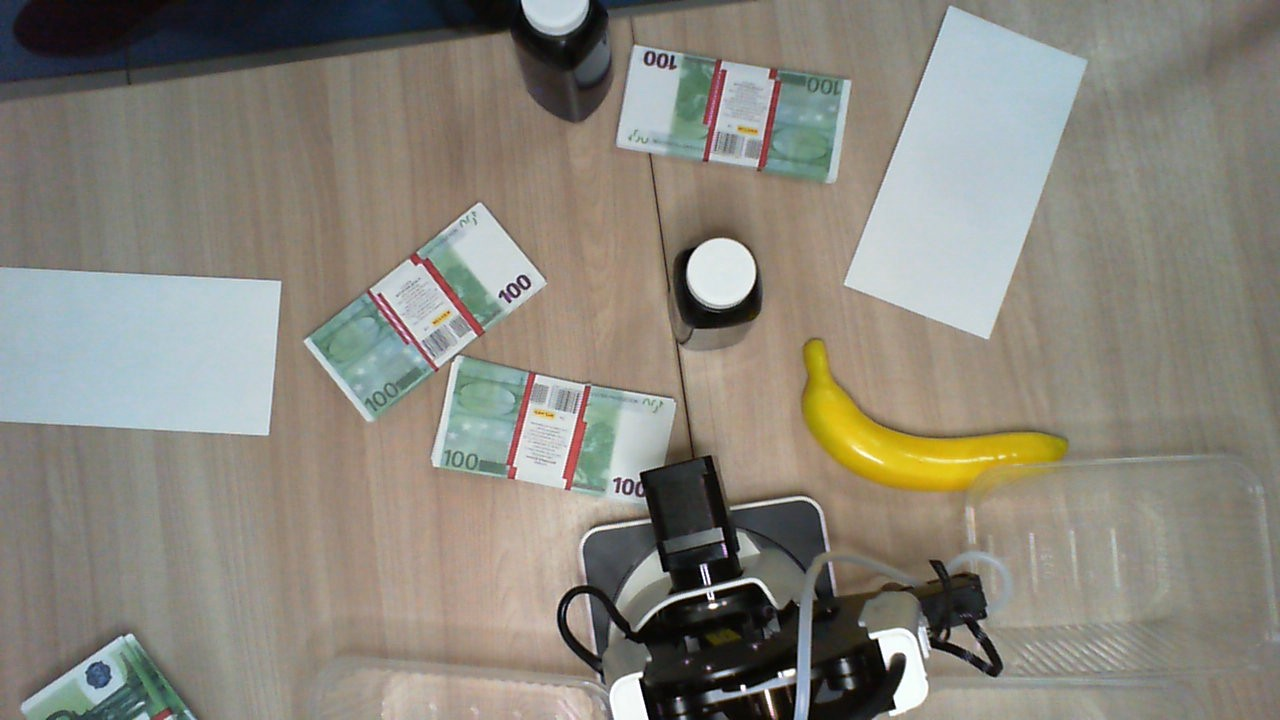banana: (793, 340, 1066, 490)
bottle: (670, 235, 766, 329), (508, 1, 605, 60)
convert: (842, 7, 1088, 345), (1, 269, 283, 437)
money: (304, 201, 550, 426), (426, 356, 678, 504), (613, 43, 853, 184), (20, 626, 200, 720)
